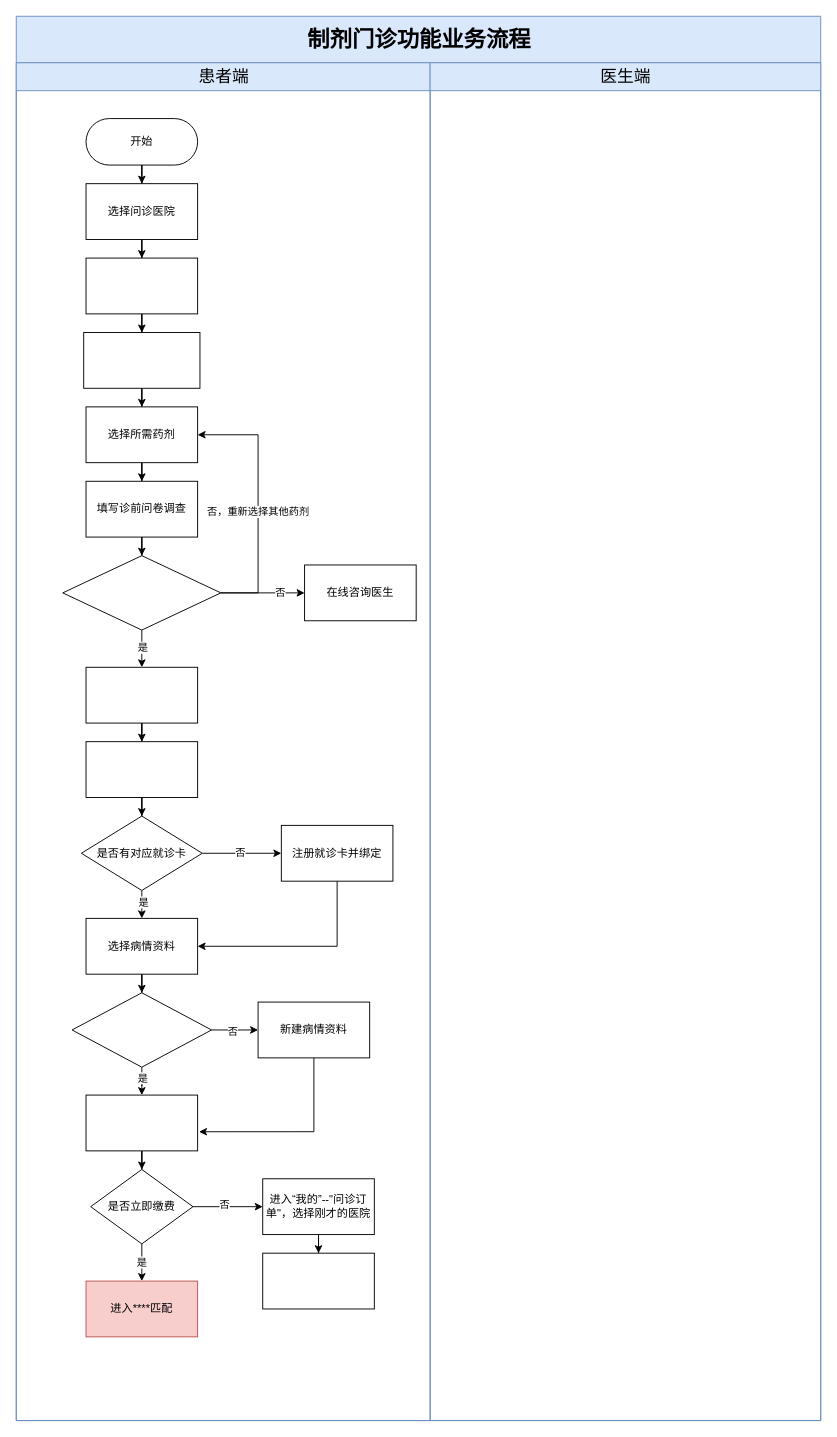
This 837x1437 diagram has some shape labels left out. Here are the shapes that lost their labels. From the top down, the box of each, then its label:
(85, 257, 198, 314): 选择制剂门诊服务
(83, 332, 200, 388): 确认制剂门诊专区须知
(62, 555, 221, 630): 系统判断是否适合该药剂
(85, 666, 198, 723): 确认订单
(85, 741, 198, 797): 选择问诊人
(71, 992, 212, 1067): 是否有可用的历史病情资料
(85, 1094, 198, 1151): 订单提交成功
(262, 1252, 374, 1309): 查看咨询记录
